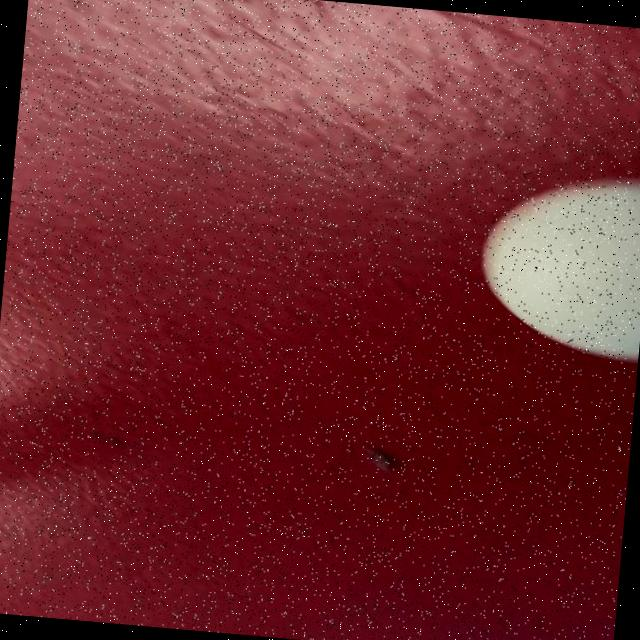ping-pong-ball: (434, 155, 640, 379)
